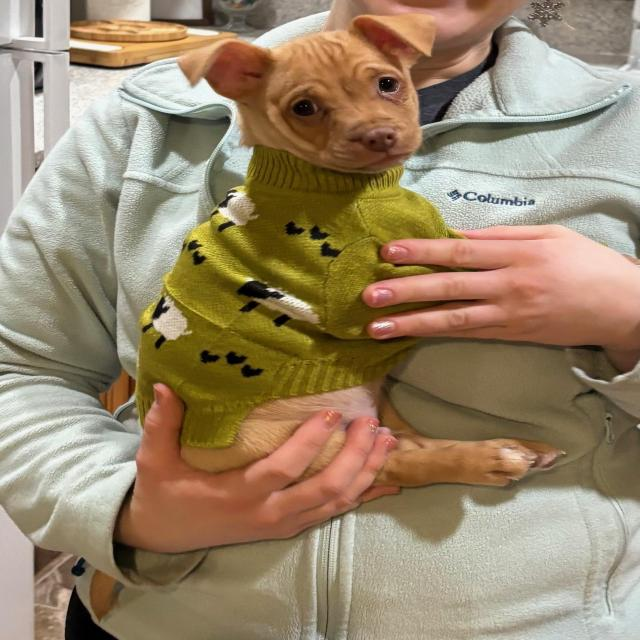chihuahua_dog: (166, 7, 455, 195)
